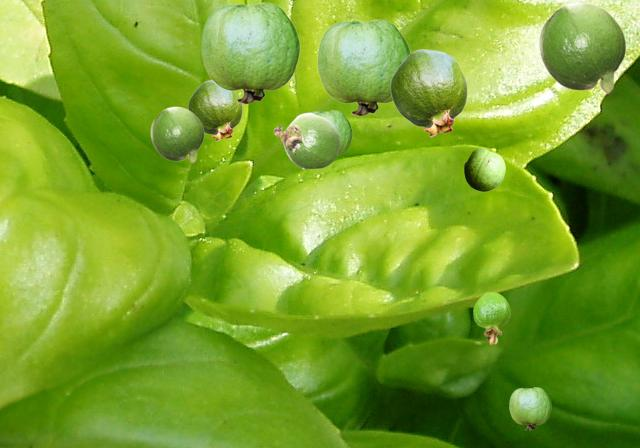guava: (201, 2, 299, 103), (317, 19, 410, 115), (538, 1, 625, 93), (390, 49, 466, 136), (273, 112, 339, 168), (188, 80, 241, 140), (150, 106, 203, 162), (311, 110, 351, 156), (473, 292, 509, 343), (509, 387, 550, 429), (464, 148, 504, 190)
